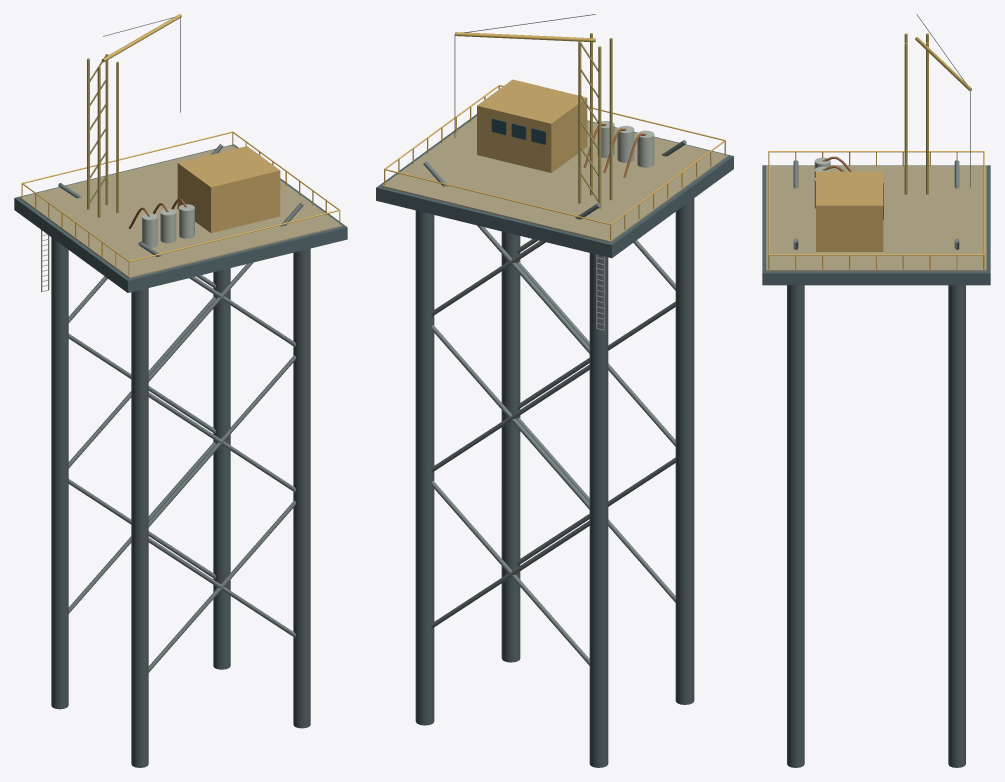
File: platform.glb
3 renders of one model, left to right at view 1: azimuth 30°, elevation 25°; view 2: azimuth 150°, elevation 25°; view 3: azimuth 270°, elevation 25°, orthographic. The views are drawn at different scales.
Visible parts, largest first — view 1: FoundationLegAssembly, DeckSurface, CrossBraceAssembly, ServiceCabin, SteelDeck, CraneTowerAssembly, GuardRailAssembly, StorageTankAssembly; view 2: FoundationLegAssembly, DeckSurface, CrossBraceAssembly, ServiceCabin, SteelDeck, CraneTowerAssembly, GuardRailAssembly, StorageTankAssembly, CabinWindowAssembly, CraneBoom; view 3: DeckSurface, FoundationLegAssembly, ServiceCabin, SteelDeck, GuardRailAssembly, CraneTowerAssembly, CrossBraceAssembly.
Part boxes in pixels (<box>): FoundationLegAssembly: <box>51,237,310,767</box>; DeckSurface: <box>19,145,342,278</box>; CrossBraceAssembly: <box>58,144,303,672</box>; ServiceCabin: <box>177,146,280,233</box>; SteelDeck: <box>14,144,347,292</box>; CraneTowerAssembly: <box>87,54,118,217</box>; GuardRailAssembly: <box>21,131,340,276</box>; StorageTankAssembly: <box>142,204,194,247</box>; FoundationLegAssembly: <box>415,198,694,767</box>; DeckSurface: <box>382,116,727,242</box>; CrossBraceAssembly: <box>423,140,686,665</box>; ServiceCabin: <box>477,79,587,172</box>; SteelDeck: <box>376,114,733,258</box>; CraneTowerAssembly: <box>578,33,612,208</box>; GuardRailAssembly: <box>384,84,725,240</box>; StorageTankAssembly: <box>597,121,654,167</box>; CabinWindowAssembly: <box>491,118,545,144</box>; CraneBoom: <box>455,32,595,42</box>; DeckSurface: <box>766,165,986,271</box>; FoundationLegAssembly: <box>787,285,965,767</box>; ServiceCabin: <box>816,171,883,251</box>; SteelDeck: <box>762,165,990,285</box>; GuardRailAssembly: <box>768,151,984,269</box>; CraneTowerAssembly: <box>904,33,928,194</box>; CrossBraceAssembly: <box>793,160,959,249</box>.
Size of the model in its own units: 19 by 56.02 by 17.
